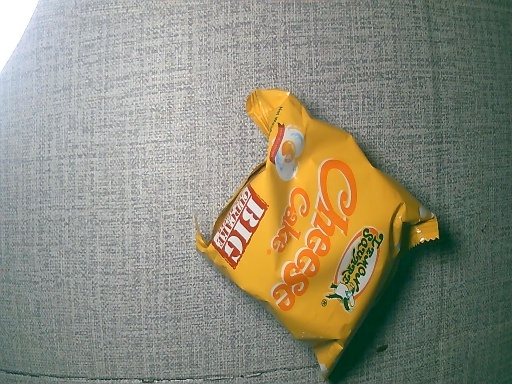plastic: (190, 87, 442, 380)
